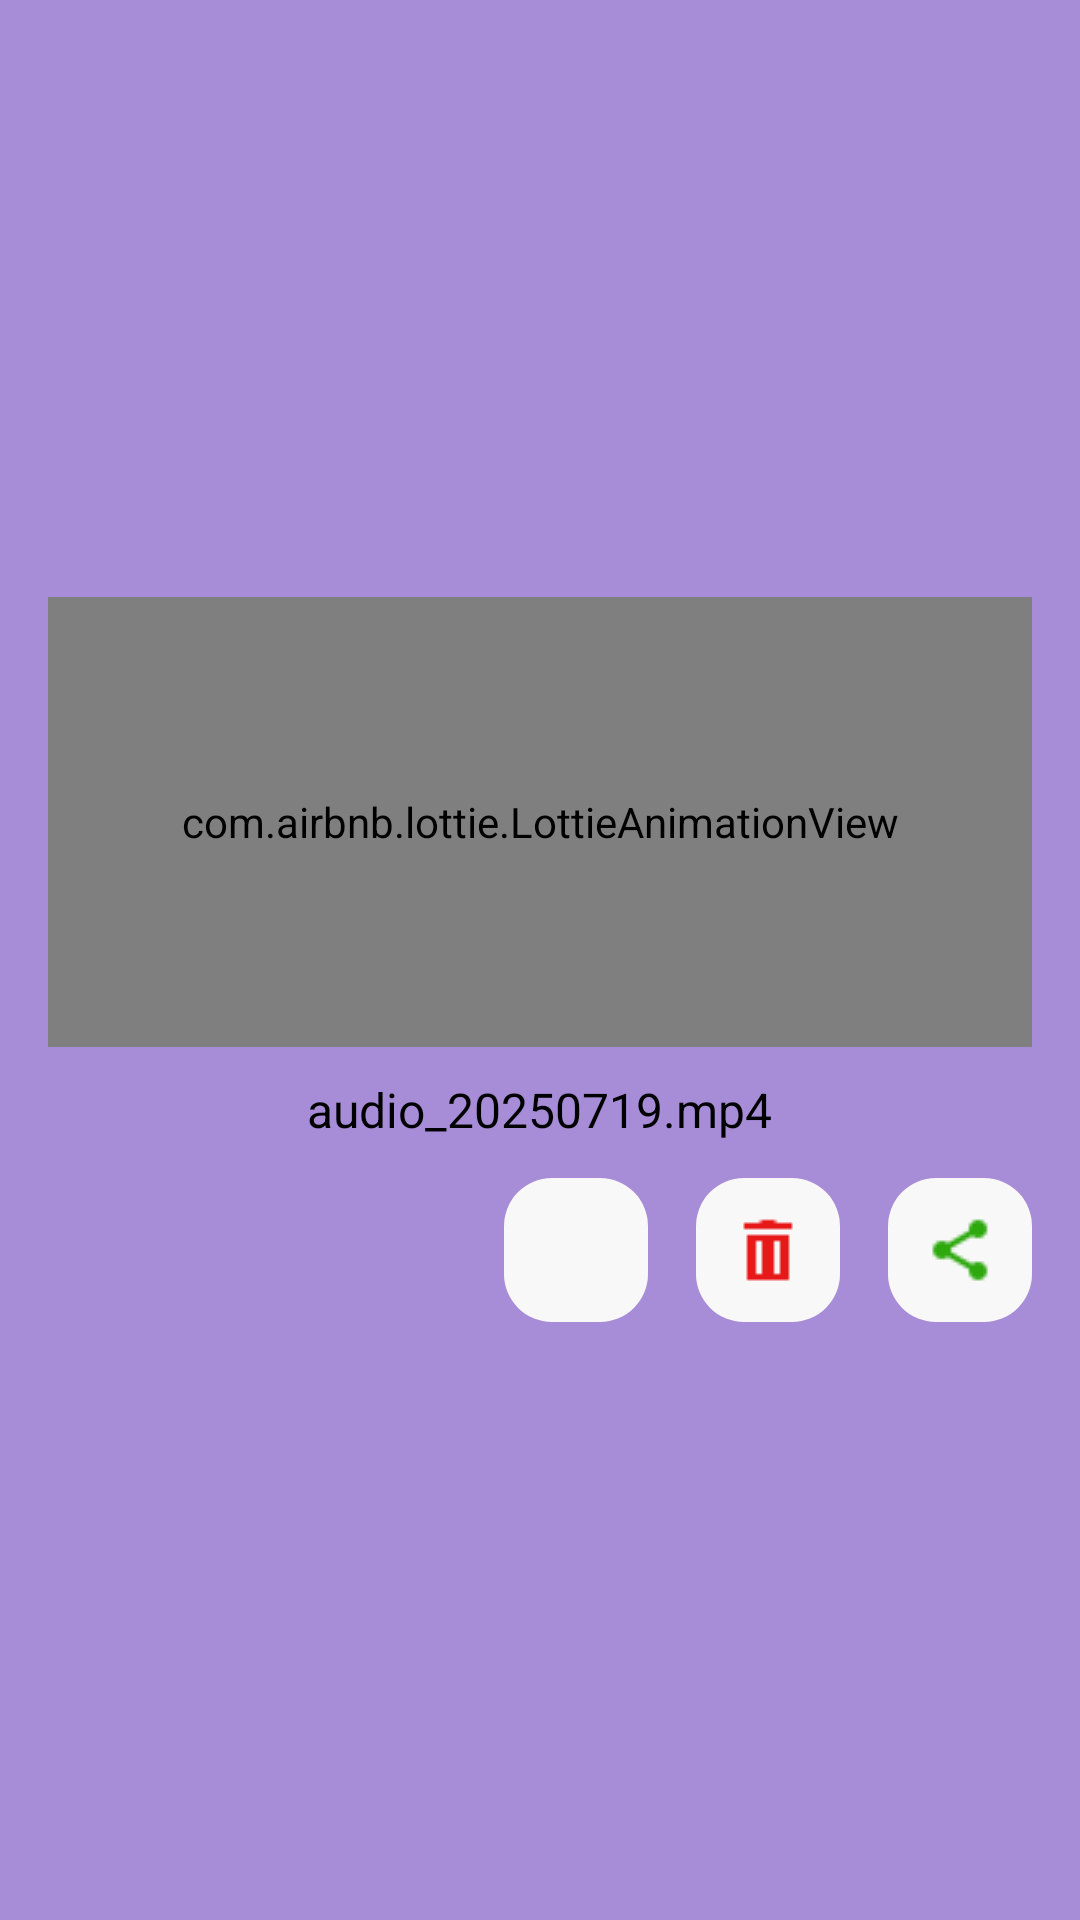

Icons on this 1080×1920 Android screen, each with its box as (x1, y1, x2, y2):
delete: (696, 1178, 840, 1322)
Share: (888, 1178, 1032, 1322)
